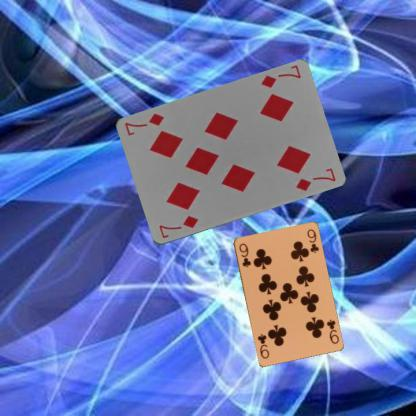7d: (258, 63, 302, 90), (156, 213, 199, 240)
9c: (236, 240, 252, 269), (324, 317, 340, 345)
